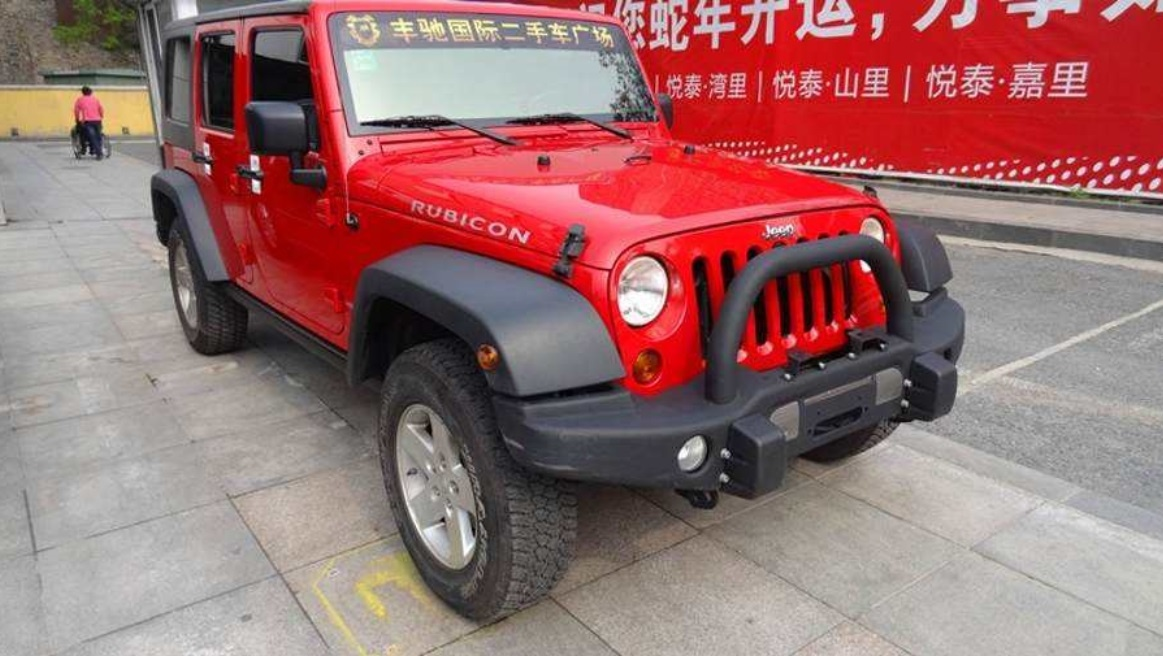jeep: (109, 10, 990, 610)
